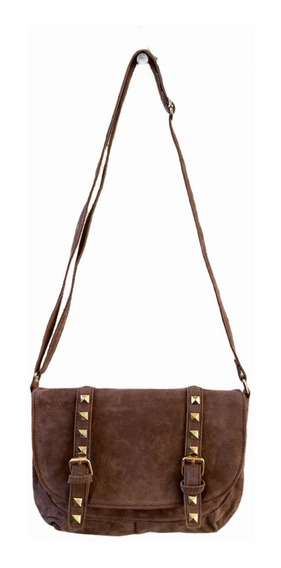cartera: (28, 48, 251, 537)
